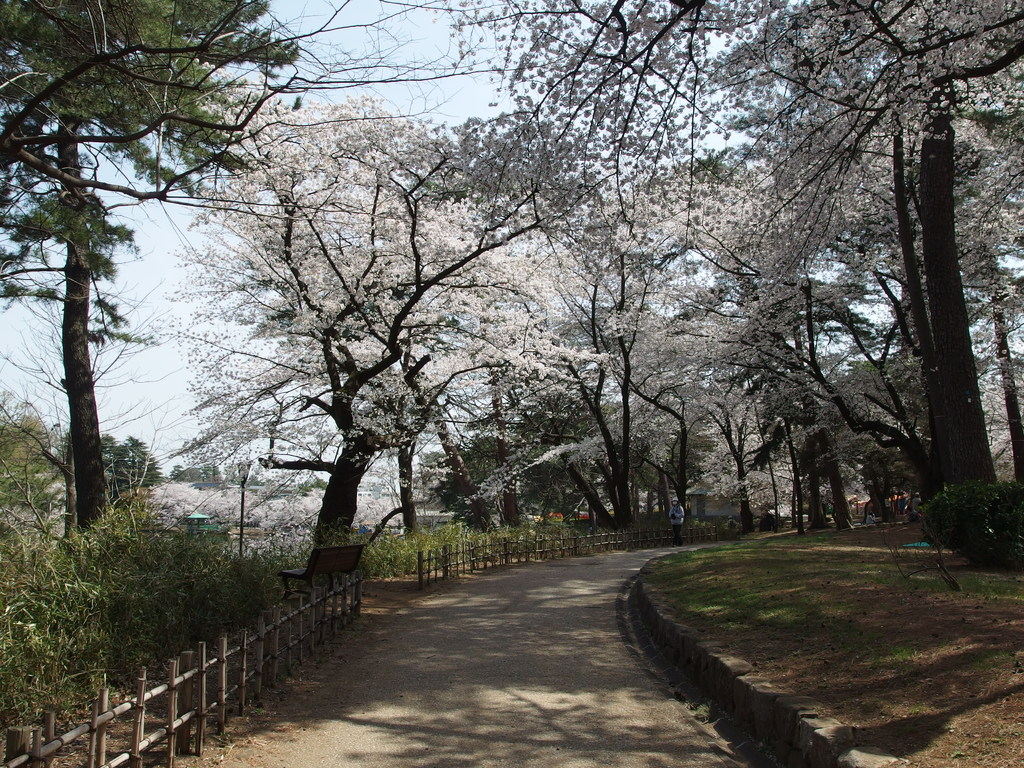Tree: (0, 0, 1023, 574)
